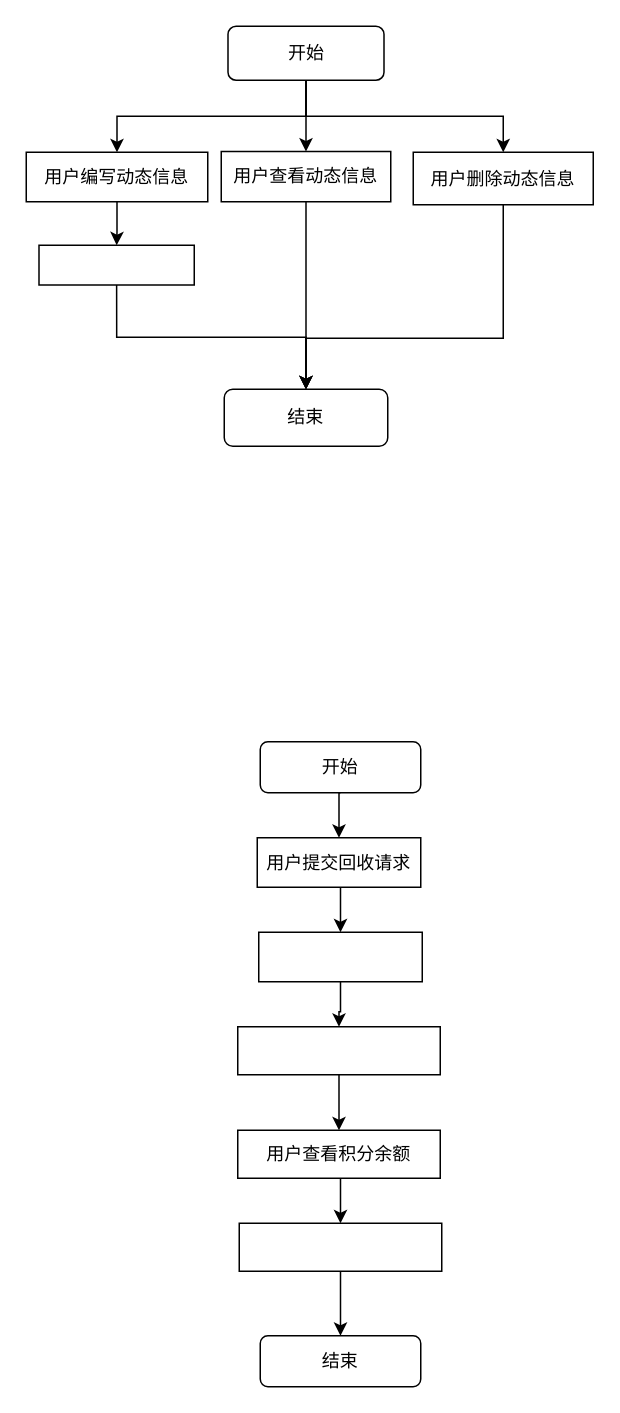
This 620x1413 diagram has some shape labels left out. Each missing label, with the centre of its shape:
"完成回收过程" goes at point (339, 956).
"用户使用积分兑换奖励" goes at point (340, 1246).
"用户发布动态信息" goes at point (116, 264).
"系统为用户添加积分" goes at point (338, 1050).
